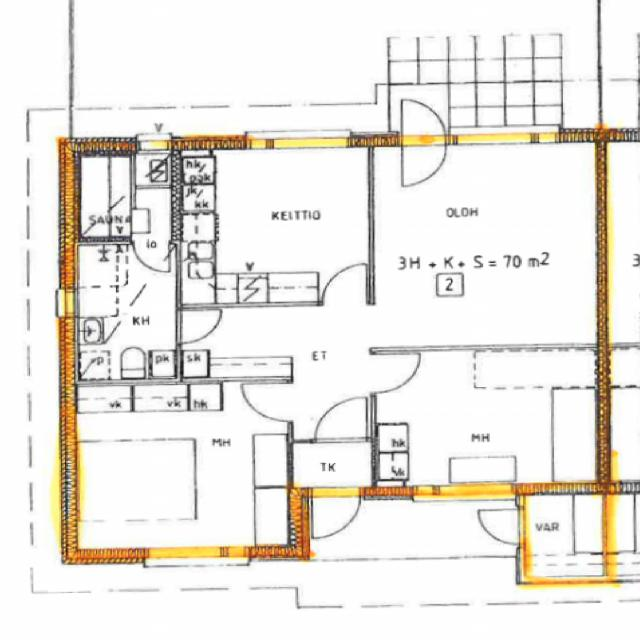door: (312, 487, 360, 539), (315, 396, 367, 443), (402, 132, 446, 183), (402, 96, 446, 146), (371, 354, 422, 392), (244, 384, 294, 421), (473, 510, 525, 544), (176, 310, 222, 344), (134, 236, 169, 273)
